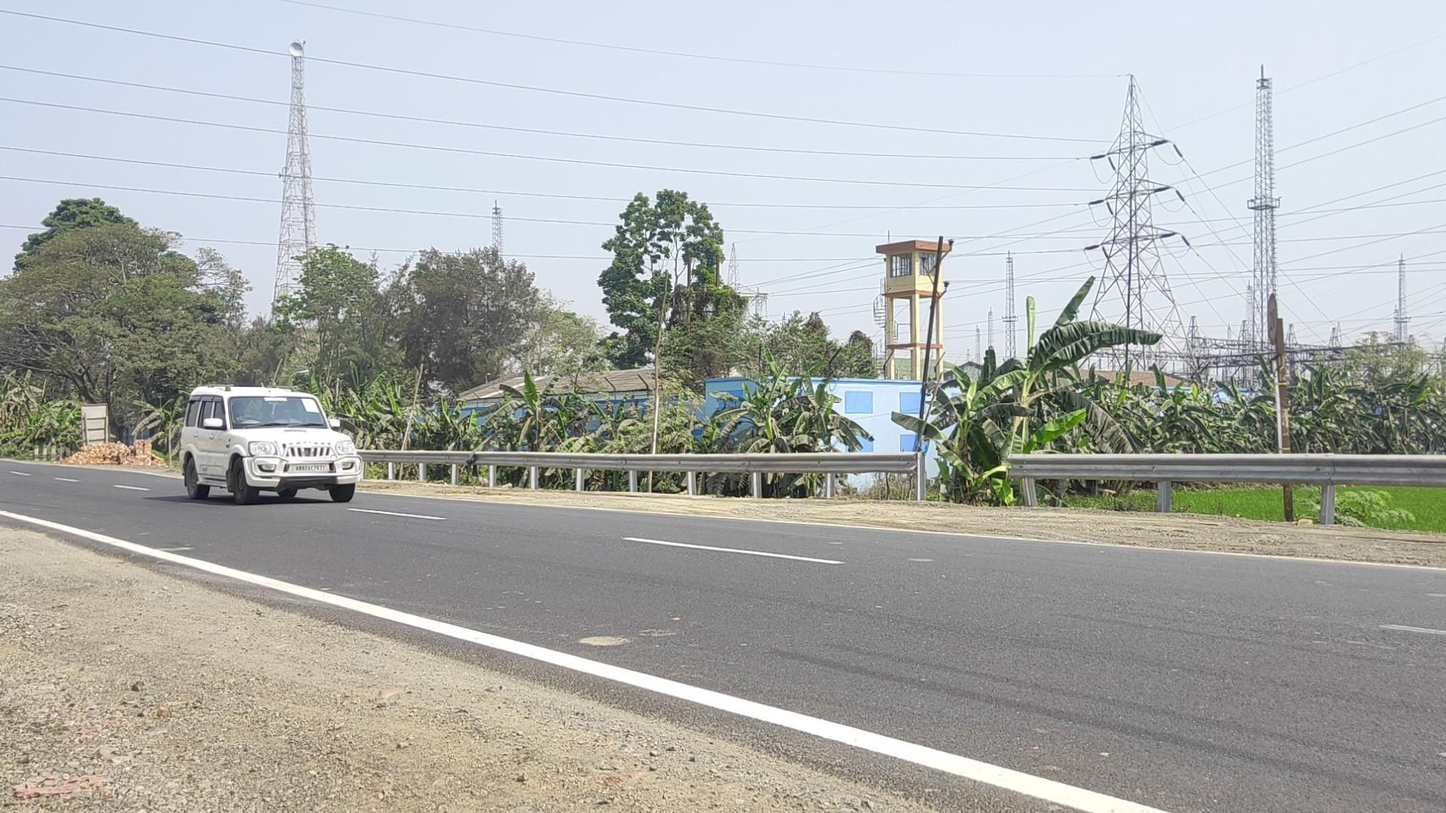car: (179, 383, 362, 505)
